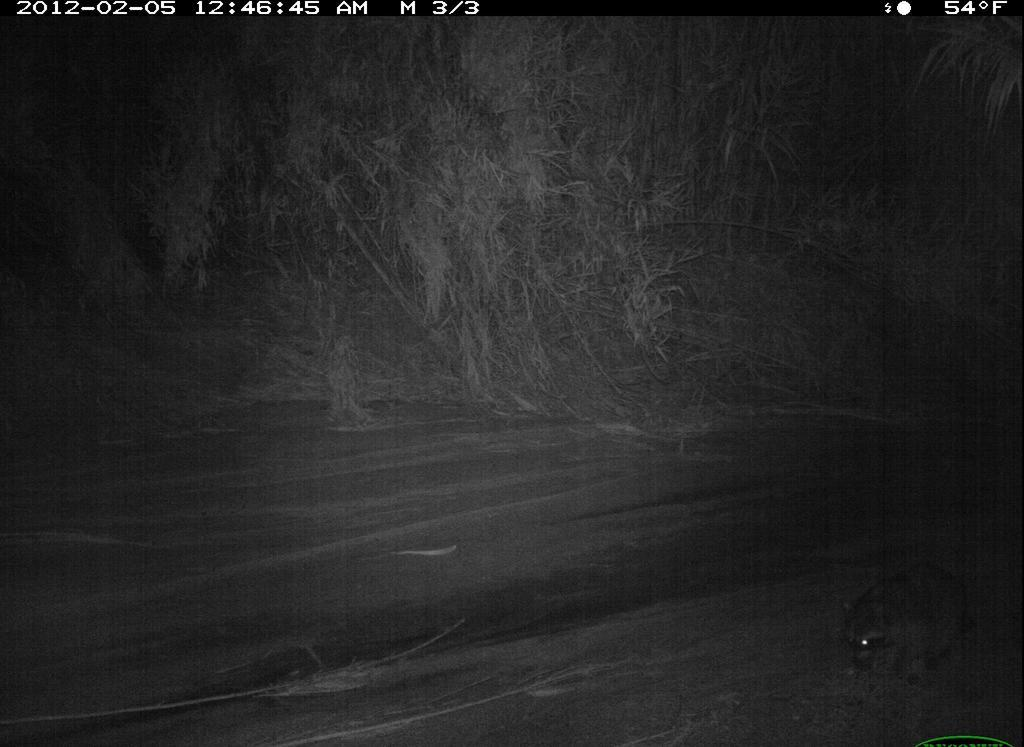raccoon: (844, 548, 973, 697)
